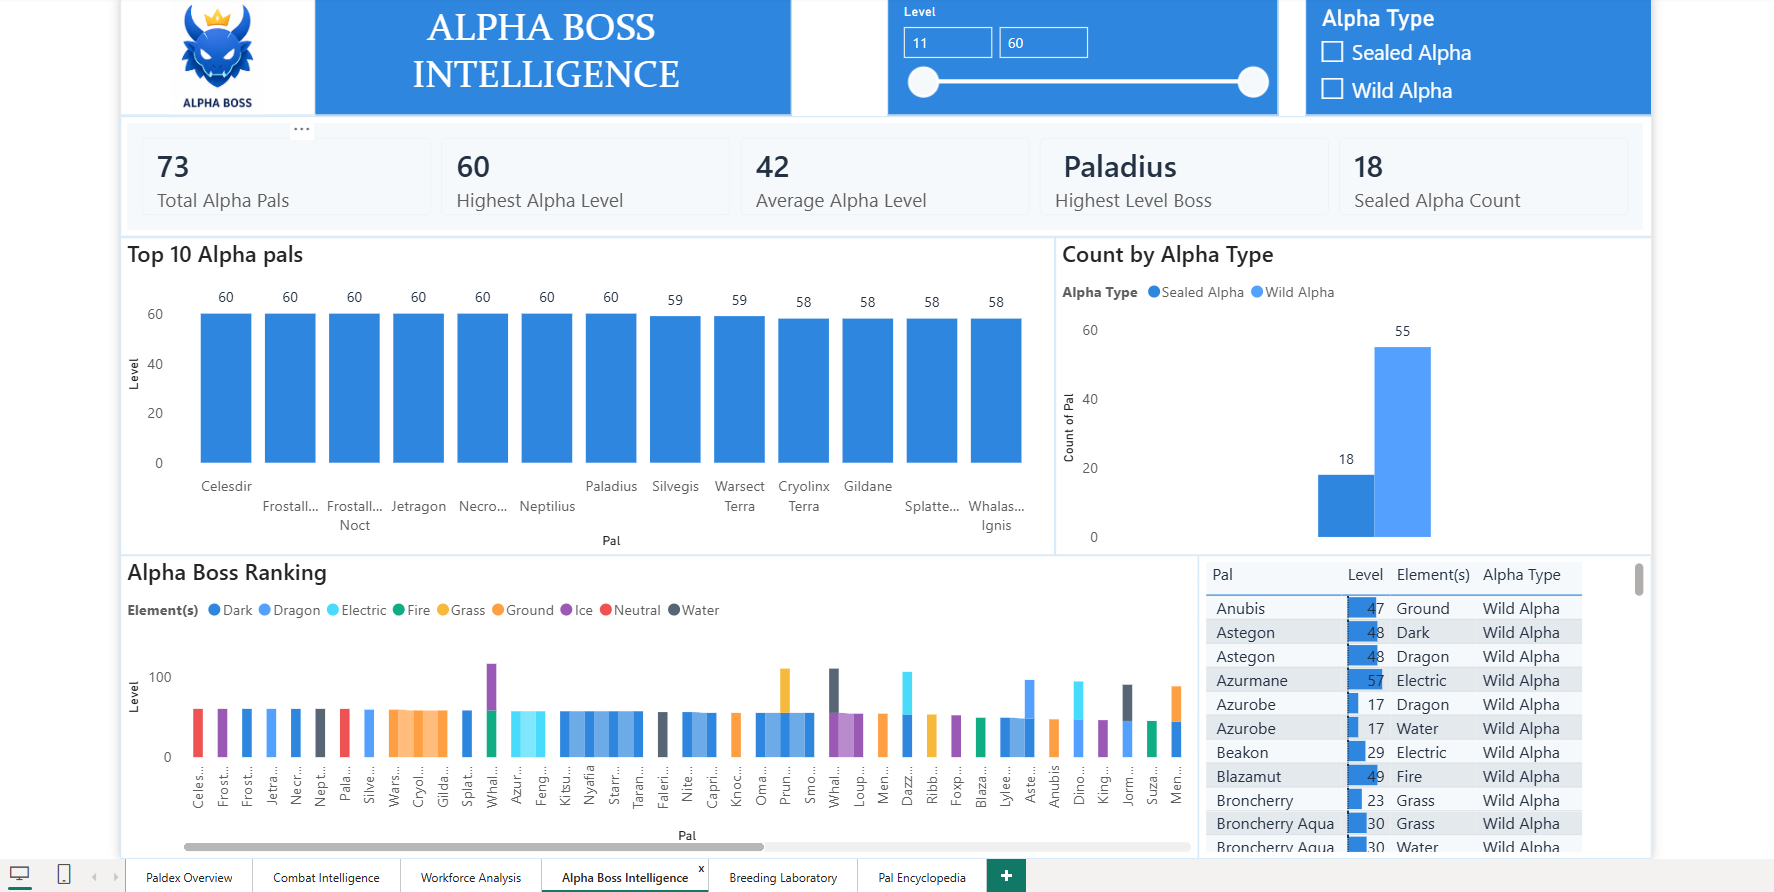

What the dashboard file says about the page in this screenshot:
{"tool":"powerbi","page":{"name":"Alpha Boss Intelligence","canvas":[1280,720],"ordinal":3},"visuals":[{"type":"cardVisual","fields":{"Data":["Paldex.Total Alpha Pals","Alpha Pals.Highest Alpha Level","Alpha Pals.Average Alpha Level","Alpha Pals.Highest Level Boss","Alpha Pals.Sealed Alpha Count"]},"box":[0,99.2,1280,101.2],"z":0},{"type":"clusteredColumnChart","title":"Top 10 Alpha pals","fields":{"Category":["Alpha Pals.Pal"],"Y":["Sum(Alpha Pals.Level)"]},"box":[0,200.4,781,265.5],"z":1000},{"type":"slicer","fields":{"Values":["Alpha Pals.Alpha Type"]},"box":[990.2,0,289.8,99.2],"z":2000},{"type":"clusteredColumnChart","title":"Count by Alpha Type","fields":{"Series":["Alpha Pals.Alpha Type"],"Y":["CountNonNull(Alpha Pals.Pal)"]},"box":[781,200.4,499,265.5],"z":3000},{"type":"ribbonChart","title":"Alpha Boss Ranking","fields":{"Category":["Alpha Pals.Pal"],"Series":["Paldex.Element(s)"],"Y":["Sum(Alpha Pals.Level)"]},"box":[0,465.9,900.7,253.9],"z":4000},{"type":"tableEx","fields":{"Values":["Alpha Pals.Pal","Alpha Pals.Level","Paldex.Element(s)","Alpha Pals.Alpha Type"]},"box":[900.7,465.9,379.3,253.9],"z":5000},{"type":"textbox","box":[151.3,0,409.6,99.2],"z":5001},{"type":"image","box":[0,0,163.1,99.2],"z":5002},{"type":"slicer","fields":{"Values":["Alpha Pals.Level"]},"box":[640.5,0,327.1,99.2],"z":5003}]}

Visuals, with their boxes on the page's 1280x720 design canvas (x1, y1, x2, y2). These are canvas units, not pixel positions in the 1774x892 screenshot, which may show the page scaled, cropped or inside an application window:
cardVisual - Paldex.Total Alpha Pals x Alpha Pals.Highest Alpha Level: region(0, 99, 1280, 200)
"Top 10 Alpha pals" clusteredColumnChart: region(0, 200, 781, 466)
slicer - Alpha Pals.Alpha Type: region(990, 0, 1280, 99)
"Count by Alpha Type" clusteredColumnChart: region(781, 200, 1280, 466)
"Alpha Boss Ranking" ribbonChart: region(0, 466, 901, 720)
tableEx - Alpha Pals.Pal x Alpha Pals.Level: region(901, 466, 1280, 720)
textbox: region(151, 0, 561, 99)
image: region(0, 0, 163, 99)
slicer - Alpha Pals.Level: region(640, 0, 968, 99)
